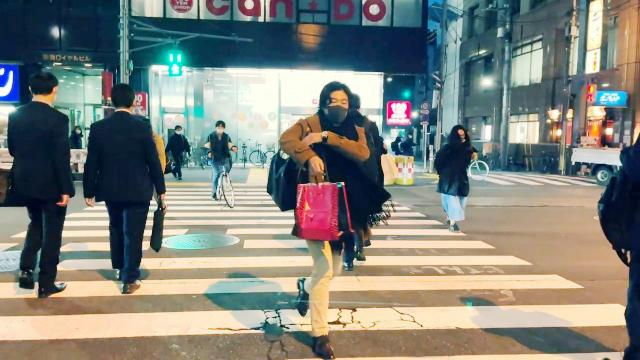berjalan: (268, 76, 374, 360), (4, 68, 76, 307), (88, 85, 166, 295), (431, 122, 475, 234)
